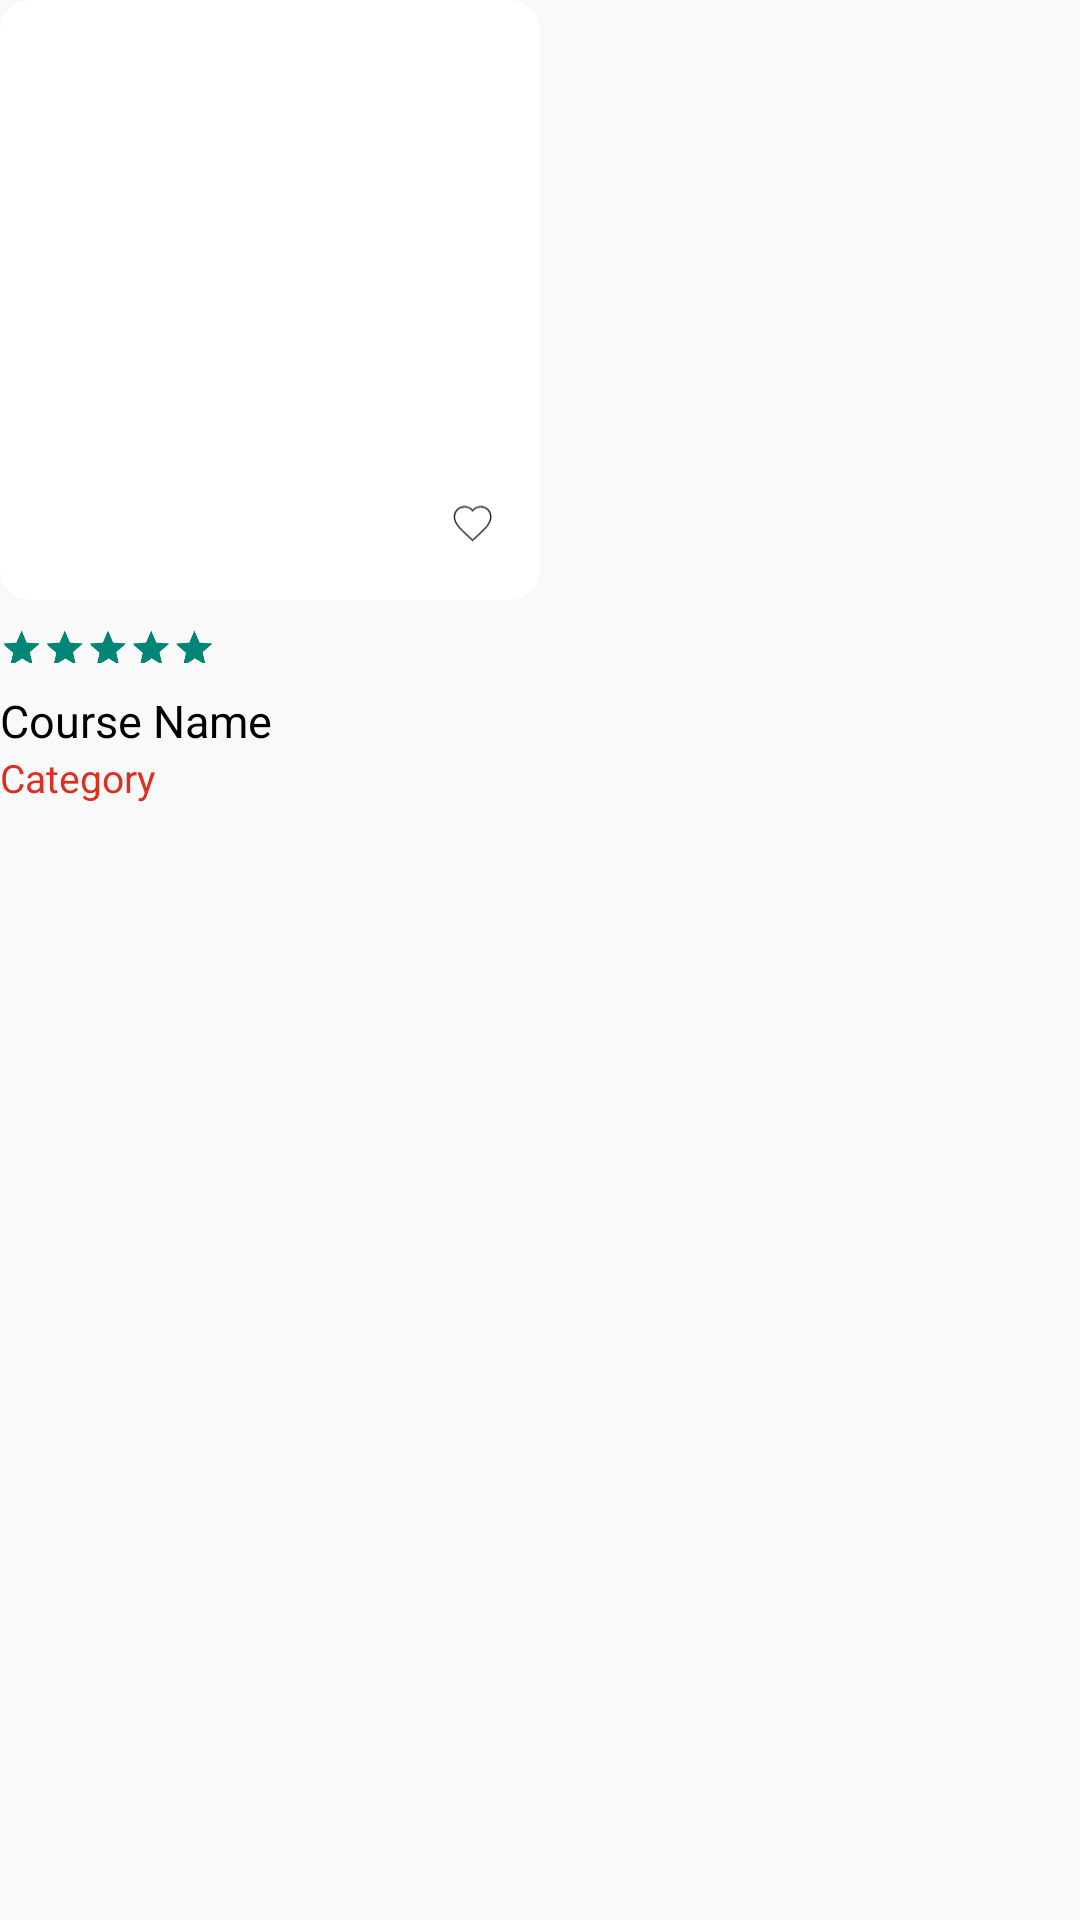

Named icons in this screenshot (1080 × 1920) and their centers, (x,y):
fav: (472,523)
